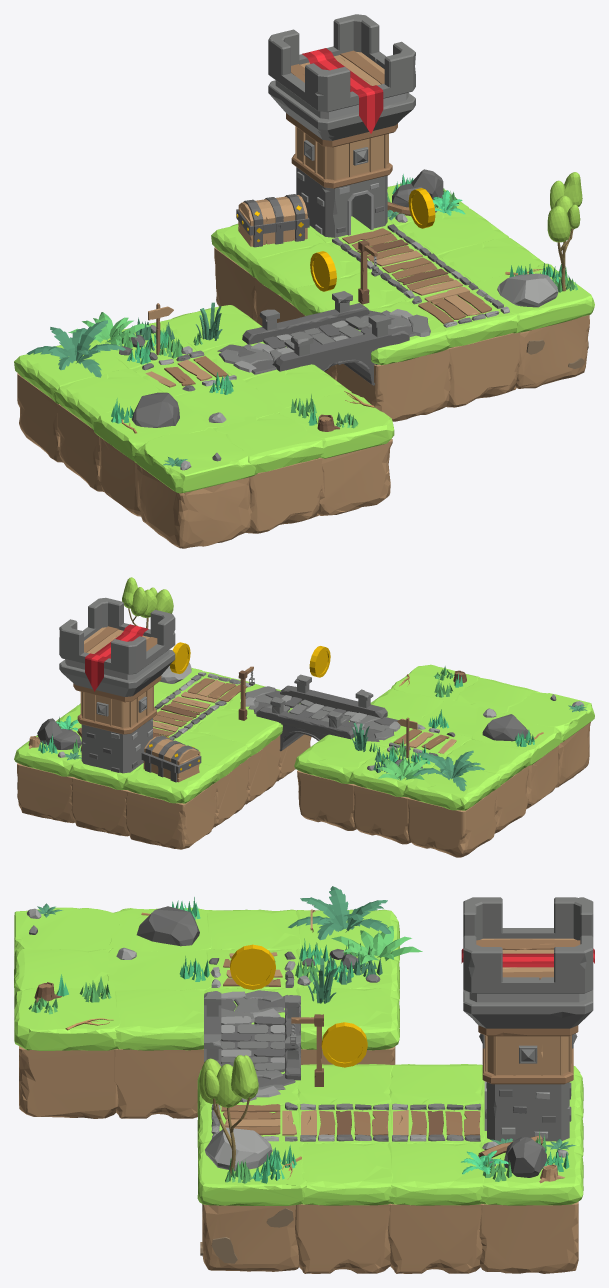
The picture shows the model from 3 angles, top to bottom: view 1: azimuth 30°, elevation 25°; view 2: azimuth 150°, elevation 25°; view 3: azimuth 270°, elevation 25°; orthographic projection. The views are drawn at different scales.
Parts seen in each view (by area): view 1: TowerV1, Bridge_002, Tile_Bot_Part_22, Tile_Top_Part_22, Tile_Bot_Part_15, Tile_Bot_Part_12, Tile_Bot_Part_10, Tile_Bot_Part_20, Tile_Top_Part_12, Tile_Top_Part_20, Tile_Bot_Part_21, Tile_Top_Part_4 (+39 smaller); view 2: TowerV1, Bridge_002, Tile_Bot_Part_16, Tile_Bot_Part_3, Tile_Top_Part_3, Tile_Bot_Part_19, Tile_Bot_Part_17, Tile_Bot_Part, Tile_Bot_Part_1, Tile_Top_Part, Tile_Top_Part_22, Tile_Top_Part_14 (+39 smaller); view 3: TowerV1, Tile_Bot_Part_19, Tile_Bot_Part_20, Tile_Bot_Part_5, Tile_Bot_Part_6, Tile_Bot_Part_9, Bridge_002, Tile_Top_Part_6, Tile_Top_Part_20, Tile_Top_Part_5, Tile_Bot_Part_21, Tile_Top_Part_9 (+39 smaller).
Part boxes in pixels (box(x1,y1,x2,y2)): TowerV1: box(268, 14, 415, 237); Bridge_002: box(242, 291, 409, 385); Tile_Bot_Part_22: box(137, 464, 250, 548); Tile_Top_Part_22: box(134, 428, 257, 493); Tile_Bot_Part_15: box(336, 349, 450, 421); Tile_Bot_Part_12: box(246, 457, 322, 533); Tile_Bot_Part_10: box(446, 332, 520, 407); Tile_Bot_Part_20: box(318, 439, 392, 515); Tile_Top_Part_12: box(213, 413, 323, 473); Tile_Top_Part_20: box(279, 392, 394, 458); Tile_Bot_Part_21: box(515, 315, 589, 388); Tile_Top_Part_4: box(54, 368, 162, 429); TowerV1: box(59, 597, 175, 773); Bridge_002: box(256, 674, 387, 751); Tile_Bot_Part_16: box(126, 781, 217, 849); Tile_Bot_Part_3: box(407, 789, 497, 857); Tile_Top_Part_3: box(403, 764, 500, 810); Tile_Bot_Part_19: box(17, 763, 75, 823); Tile_Bot_Part_17: box(71, 777, 129, 836); Tile_Bot_Part: box(297, 770, 356, 830); Tile_Bot_Part_1: box(353, 785, 410, 844); Tile_Top_Part: box(294, 734, 387, 783); Tile_Top_Part_22: box(504, 692, 594, 743); Tile_Top_Part_14: box(193, 708, 282, 756); TowerV1: box(463, 897, 593, 1141); Tile_Bot_Part_19: box(479, 1201, 578, 1273); Tile_Bot_Part_20: box(19, 1046, 118, 1118); Tile_Bot_Part_5: box(295, 1203, 392, 1273); Tile_Bot_Part_6: box(388, 1204, 484, 1273); Tile_Bot_Part_9: box(114, 1049, 204, 1118); Bridge_002: box(204, 991, 300, 1080); Tile_Top_Part_6: box(387, 1142, 484, 1205); Tile_Top_Part_20: box(14, 985, 120, 1050); Tile_Top_Part_5: box(299, 1143, 392, 1205); Tile_Bot_Part_21: box(202, 1204, 299, 1271); Tile_Top_Part_9: box(114, 988, 205, 1050).
Bounding box in the file's own units: 7.3 × 3.5 × 6.33.
Materials: 1 (1 with a texture image).
